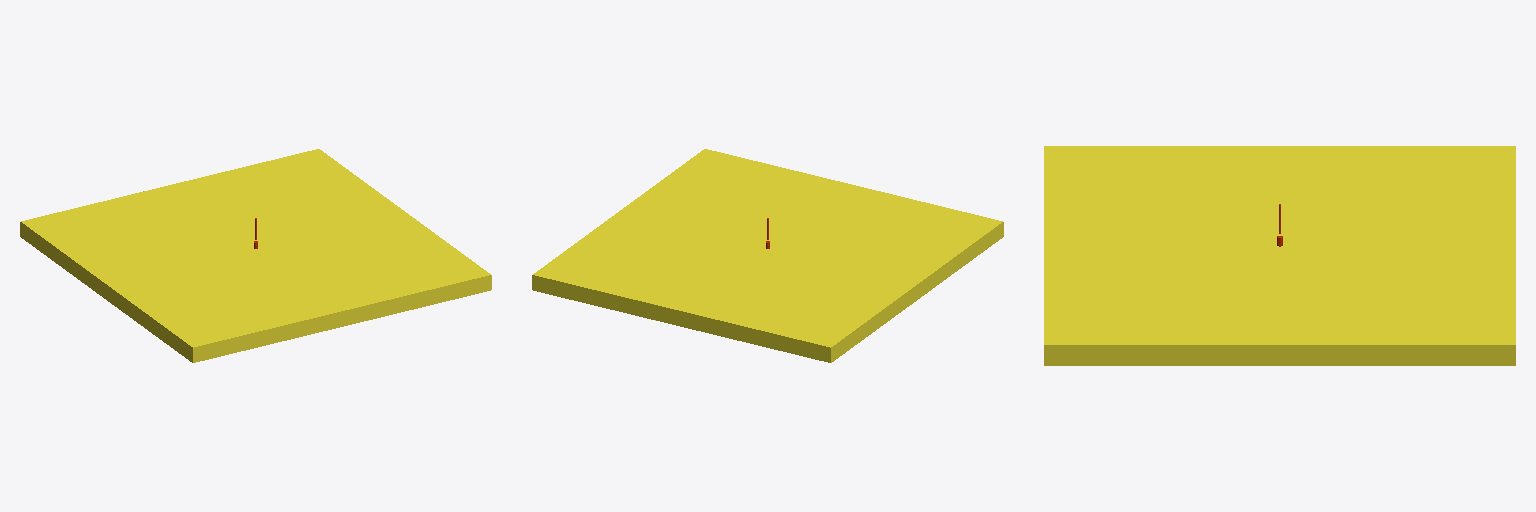
robot.urdf — oneleg:
<?xml version="1.0"?>
<robot name="oneleg">

 <!-- Joint tra Colonna e Scatola (fisso) -->
  <joint name="Colonna_Scatola_joint" type="fixed">
    <origin rpy="0 0 0" xyz="0 0 0.5"/> <!-- Scatola sotto la colonna -->
    <parent link="Link_scatola"/>
    <child link="Link_colonna"/>
  </joint>

  <!-- Joint tra Colonna e Giunto (fisso) -->
  <joint name="Colonna_Giunto_joint" type="fixed">
    <origin rpy="0 0 0" xyz="0 0 0.2"/> <!-- Colonna è alta 0.2 m -->
    <parent link="Link_colonna"/>
    <child link="Link_Giunto"/>
  </joint>

  <!-- Joint tra Giunto e Gamba (fisso) -->
  <joint name="Giunto_Gamba_joint" type="fixed">
    <origin rpy="0 0 0" xyz="0 0 0.08"/> <!-- Giunto è alto 0.08 m -->
    <parent link="Link_Giunto"/>
    <child link="Link_Gamba"/>
  </joint>

  <!-- Link Colonna -->
  <link name="Link_colonna">
    <visual>
      <origin rpy="0 0 0" xyz="0 0 0.1"/> <!-- Colonna alta 0.2, metà altezza = 0.1 -->
      <geometry>
        <cylinder radius="0.06" length="0.2"/> <!-- Diametro 0.12 m -->
      </geometry>
      <material name="Material.001"/>
    </visual>
    <collision>
      <origin rpy="0 0 0" xyz="0 0 0.1"/>
      <geometry>
        <cylinder radius="0.06" length="0.2"/>
      </geometry>
    </collision>
    <inertial>
      <origin rpy="0 0 0" xyz="0 0 0.1"/>
      <mass value="8.6"/>
      <inertia ixx="0.001" ixy="0" ixz="0" iyy="0.001" iyz="0" izz="0.001"/>
    </inertial>
  </link>

  <!-- Link Giunto -->
  <link name="Link_Giunto">
    <visual>
      <origin rpy="0 0 0" xyz="0 0 0.04"/> <!-- Giunto alto 0.08, metà altezza = 0.04 -->
      <geometry>
        <cylinder radius="0.0055" length="0.08"/> <!-- Diametro 0.011 m -->
      </geometry>
      <material name="Material.003"/>
    </visual>
    <collision>
      <origin rpy="0 0 0" xyz="0 0 0.04"/>
      <geometry>
        <cylinder radius="0.0055" length="0.08"/>
      </geometry>
    </collision>
    <deformable name="Elastic_1">
      <inertial>
        <origin rpy="0 0 0" xyz="0 0 0.04"/>
        <mass value="0.0569"/>
        <inertia ixx="0.001" ixy="0" ixz="0" iyy="0.001" iyz="0" izz="0.001"/>
      </inertial>
      <collision_margin value="0.005"/>   <!-- Margine di collisione -->
      <repulsion_stiffness value="1000.0"/>  <!-- Rigidità di repulsione -->
      <friction value="0.5"/>                <!-- Coefficiente di attrito -->
      <neohookean mu="76.92" lambda="115.38" damping="0.0"/>
    </deformable>
  </link>

  <!-- Link Gamba -->
  <link name="Link_Gamba">
    <visual>
      <origin rpy="0 0 0" xyz="0 0 0.3375"/> <!-- Gamba alta 0.675, metà altezza = 0.3375 -->
      <geometry>
        <cylinder radius="0.03" length="0.675"/> <!-- Diametro 0.06 m -->
      </geometry>
      <material name="Material.001"/>
    </visual>
    <collision>
      <origin rpy="0 0 0" xyz="0 0 0.3375"/>
      <geometry>
        <cylinder radius="0.03" length="0.675"/>
      </geometry>
    </collision>
    <inertial>
      <origin rpy="0 0 0" xyz="0 0 0.3375"/>
      <mass value="1.6145"/>
      <inertia ixx="0.001" ixy="0" ixz="0" iyy="0.001" iyz="0" izz="0.001"/>
    </inertial>
  </link>


  <!-- Link Scatola -->
  <link name="Link_scatola">
    <visual>
      <origin rpy="0 0 0" xyz="0 0 0.25"/> <!-- Scatola alta 0.5, metà altezza = 0.25 -->
      <geometry>
        <box size="10 10 0.5"/> <!-- Larghezza 10, Lunghezza 10, Altezza 0.5 -->
      </geometry>
      <material name="blue"/>
    </visual>
    <collision>
      <origin rpy="0 0 0" xyz="0 0 0.25"/>
      <geometry>
        <box size="10 10 0.5"/>
      </geometry>
    </collision>
    <inertial>
      <origin rpy="0 0 0" xyz="0 0 0.25"/>
      <mass value="200"/>
      <inertia ixx="83.333" ixy="0" ixz="0" iyy="83.333" iyz="0" izz="0.083333"/> <!-- Stima approssimata -->
    </inertial>
  </link>

 <!-- Materiali -->
  <material name="Material.001">
    <color rgba="0.800 0.243 0.000 1.000"/>
  </material>
  <material name="Material.003">
    <color rgba="0.000 0.800 0.059 1.000"/>
  </material>
</robot>

--- Facts derived from the render (not from the file) ---
The picture shows the robot from 3 angles, left to right: view 1: azimuth 30°, elevation 25°; view 2: azimuth 150°, elevation 25°; view 3: azimuth 270°, elevation 25°; orthographic projection.
Model oneleg with 4 links and 3 joints (3 fixed), rooted at Link_scatola, posed all joints at 0.
Visible links, largest first — view 1: Link_scatola; view 2: Link_scatola; view 3: Link_scatola.
Boxes of the visible links, x1,y1,x2,y2 form: Link_scatola: (20,149,491,362); Link_scatola: (532,149,1003,362); Link_scatola: (1044,146,1515,365).
Size in the robot's own frame: 10 by 10 by 1.46 metres.
Geometry: primitives only (box / cylinder / sphere), no mesh files.
